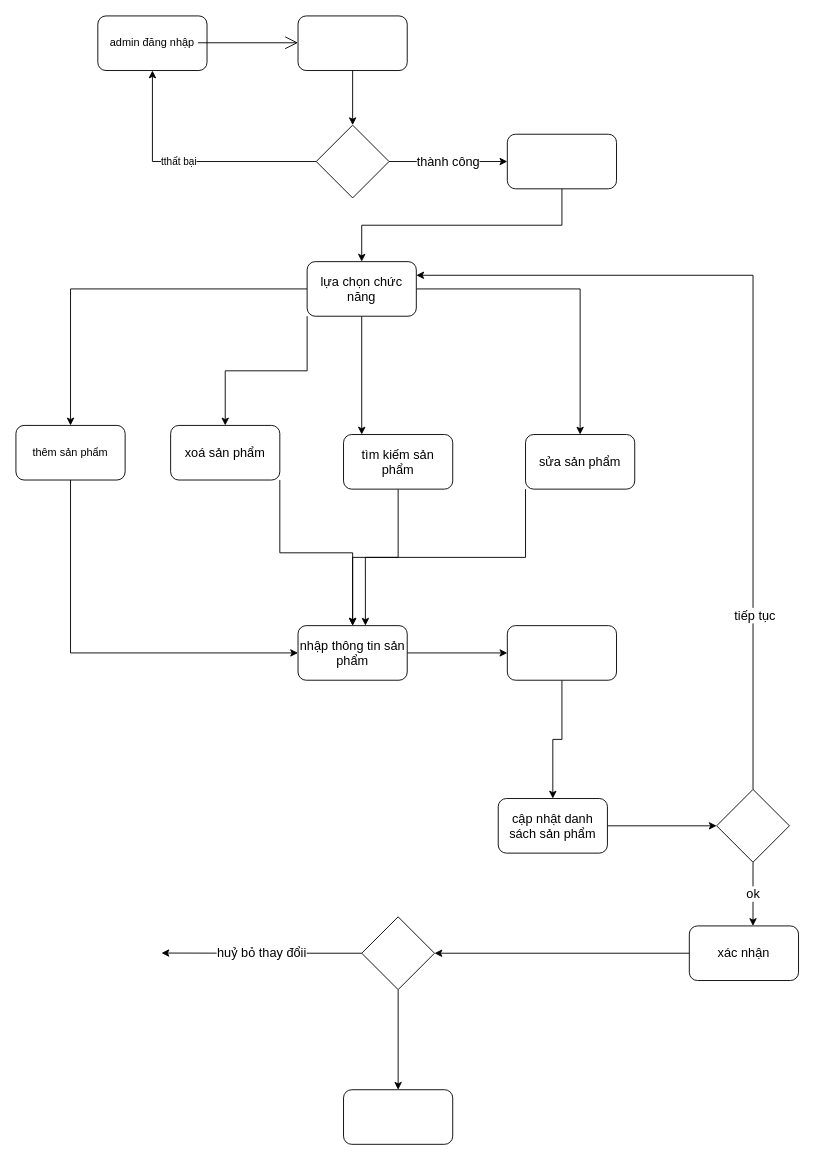
Image size: 814x1160. Some labels were removed from this diagram. Here are the shapes that lost their labels. From the top down, the centre of each, then its label:
point (352, 43): kiểm tra User and Passwordd
point (561, 161): hiển thị danh sách sản phẩm
point (561, 652): cập nhật trạng thái
point (398, 1116): thông báo thành công
